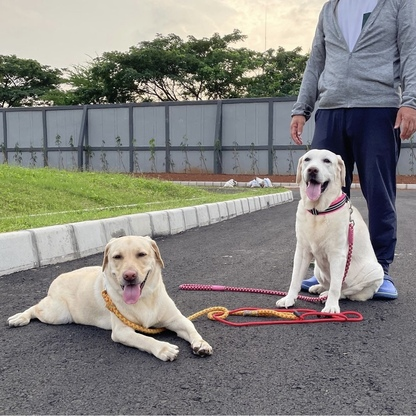labrado: (5, 233, 218, 365), (273, 146, 390, 316)
